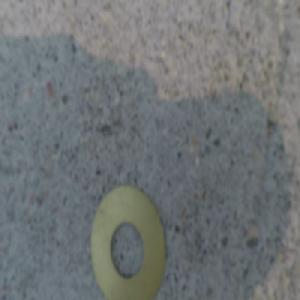Washer: (90, 177, 168, 298)
